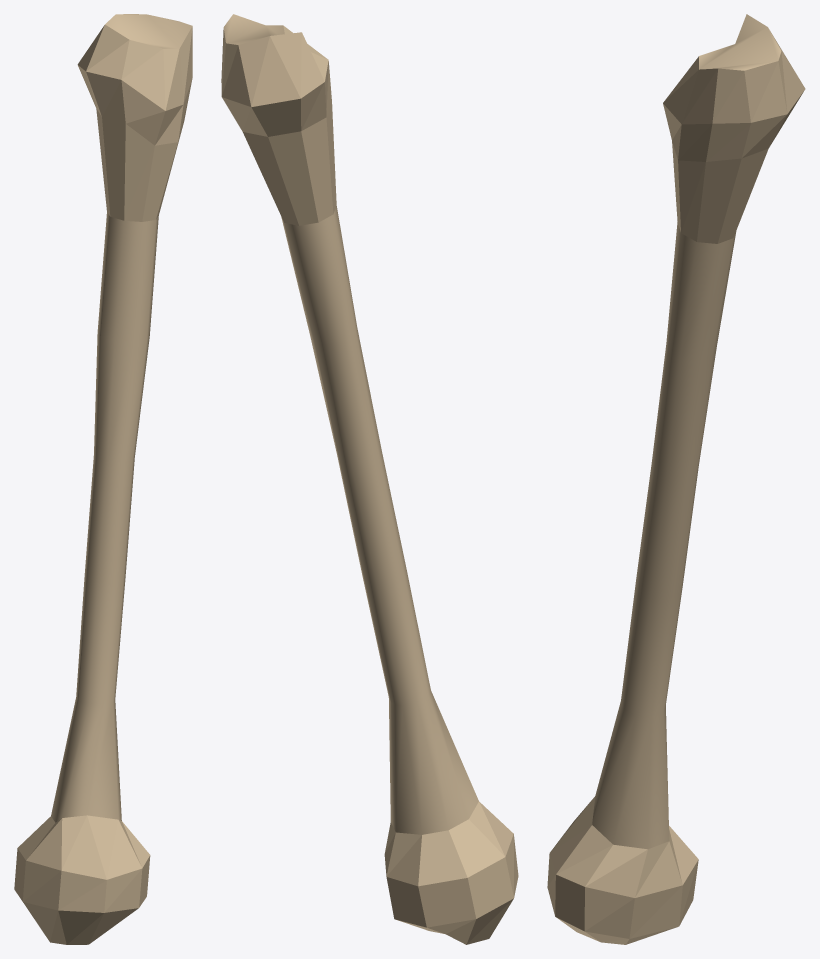
The picture shows the model from 3 angles, left to right: view 1: azimuth 30°, elevation 25°; view 2: azimuth 150°, elevation 25°; view 3: azimuth 270°, elevation 25°; orthographic projection. The views are drawn at different scales.
Parts seen in each view (by area): view 1: Os III; view 2: Os III; view 3: Os III.
Part boxes in pixels (x1=…): Os III: x1=14, y1=14, x2=192, y2=944; Os III: x1=221, y1=14, x2=518, y2=944; Os III: x1=547, y1=14, x2=805, y2=944.
Size of the model in its own units: 7.49 by 28.48 by 6.82.
